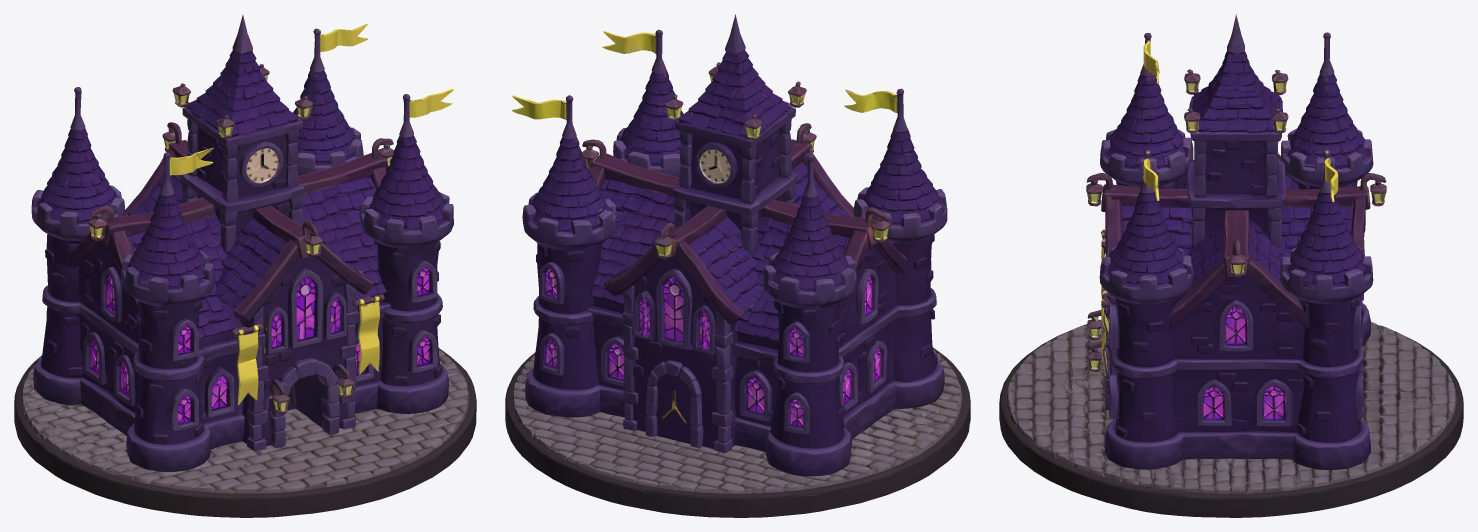
Rendered from school-hub-i2-3d.glb.
3 views of the same model, side by side, from view 1: azimuth 30°, elevation 25°; view 2: azimuth 150°, elevation 25°; view 3: azimuth 270°, elevation 25° (orthographic).
Bounding box in the file's own units: 1.9 × 1.84 × 1.9.
1 material, 1 textured.
